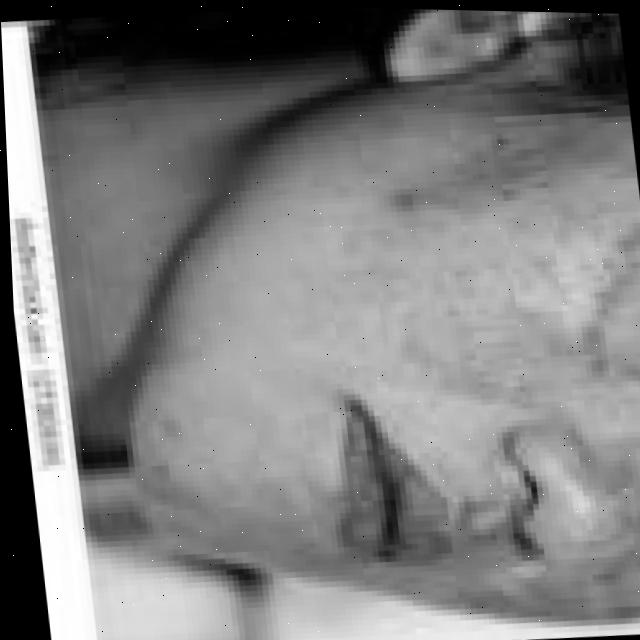Melasma: (449, 424, 640, 623), (357, 115, 571, 256)
